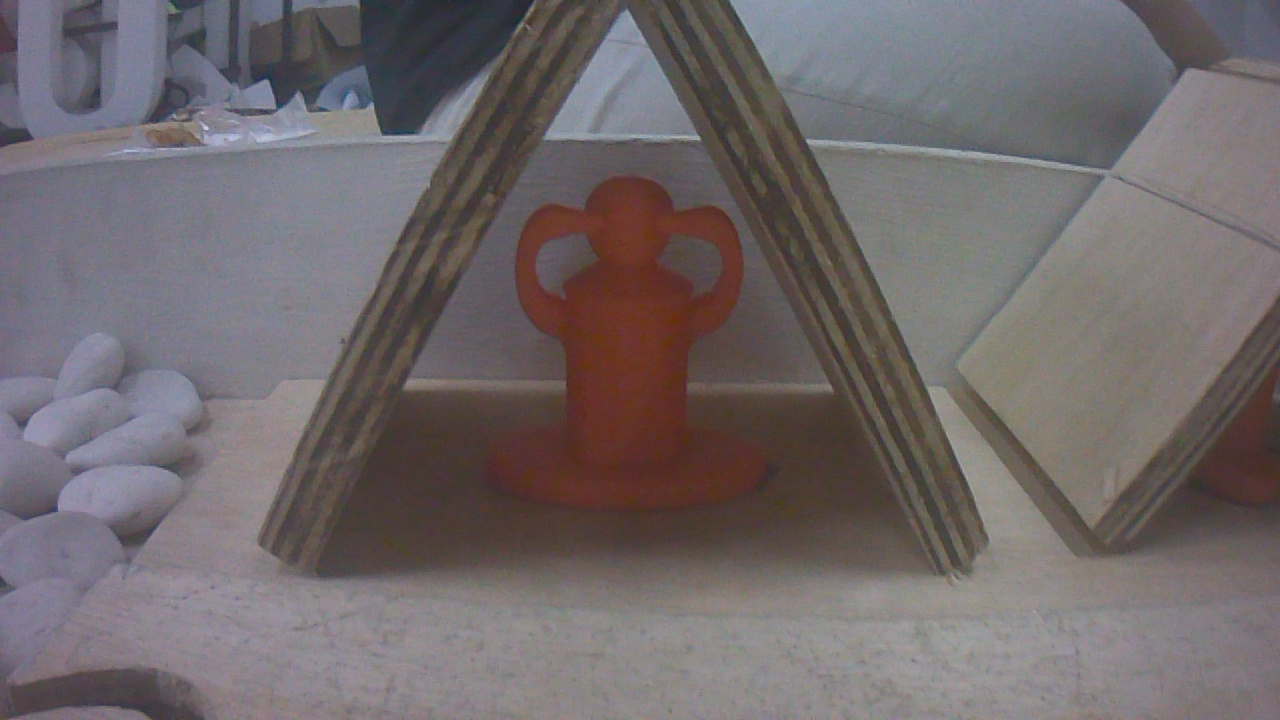real: (493, 165, 757, 524)
